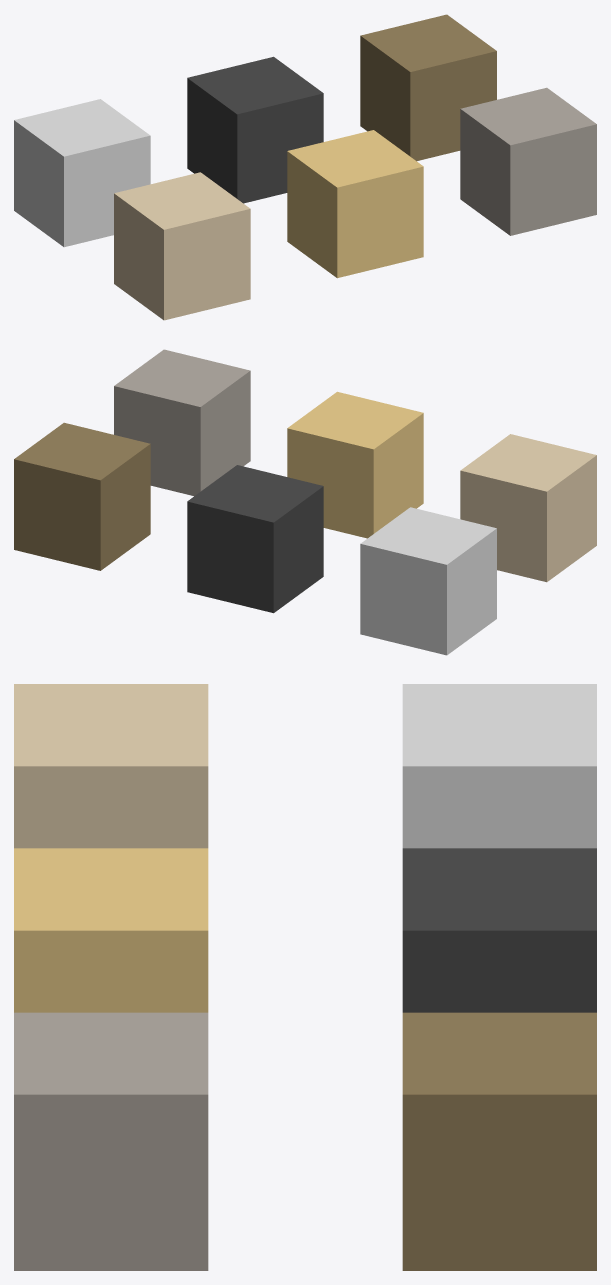
File: alluminio2.glb
3 views of the same model, one above another, from view 1: azimuth 30°, elevation 25°; view 2: azimuth 150°, elevation 25°; view 3: azimuth 270°, elevation 25° (orthographic). The views are drawn at different scales.
Visible parts, largest first — view 1: alluminio-champagne, alluminio-gold, alluminio-titanio, alluminio-alu, alluminio-black, alluminio-bronze; view 2: alluminio-alu, alluminio-black, alluminio-bronze, alluminio-champagne, alluminio-gold, alluminio-titanio; view 3: alluminio-bronze, alluminio-titanio, alluminio-black, alluminio-gold, alluminio-alu, alluminio-champagne.
Boxes of the visible parts, left/top/right/bottom form: alluminio-champagne: left=114, top=172, right=250, bottom=320; alluminio-gold: left=287, top=130, right=423, bottom=278; alluminio-titanio: left=460, top=87, right=596, bottom=235; alluminio-alu: left=14, top=99, right=150, bottom=247; alluminio-black: left=187, top=56, right=323, bottom=203; alluminio-bronze: left=360, top=14, right=496, bottom=161; alluminio-alu: left=360, top=507, right=496, bottom=655; alluminio-black: left=187, top=465, right=323, bottom=613; alluminio-bronze: left=14, top=422, right=150, bottom=570; alluminio-champagne: left=460, top=434, right=596, bottom=582; alluminio-gold: left=287, top=391, right=423, bottom=538; alluminio-titanio: left=114, top=349, right=250, bottom=496; alluminio-bronze: left=402, top=1012, right=596, bottom=1270; alluminio-titanio: left=14, top=1012, right=208, bottom=1270; alluminio-black: left=402, top=848, right=596, bottom=1012; alluminio-gold: left=14, top=848, right=208, bottom=1012; alluminio-alu: left=402, top=684, right=596, bottom=848; alluminio-champagne: left=14, top=684, right=208, bottom=848.
Size of the model in its own units: 10 by 2 by 6.
